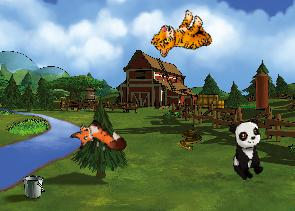fox: (67, 111, 129, 169)
panda: (227, 118, 267, 181)
tiger: (147, 3, 217, 72)
